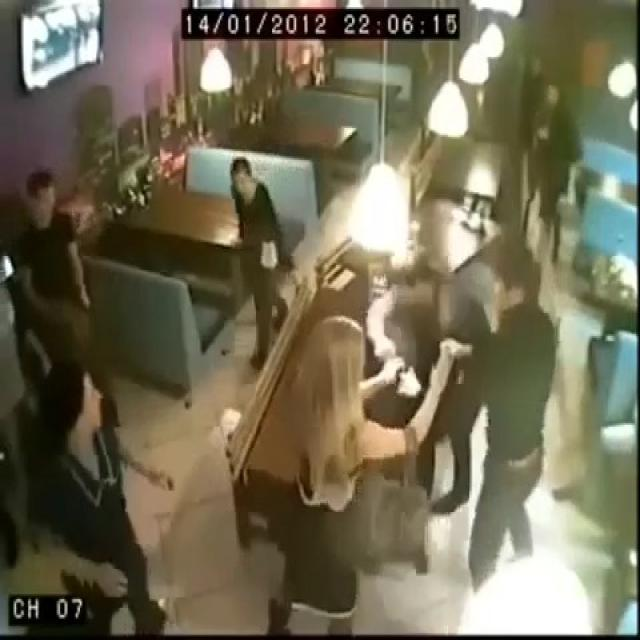fight: (368, 232, 565, 449)
